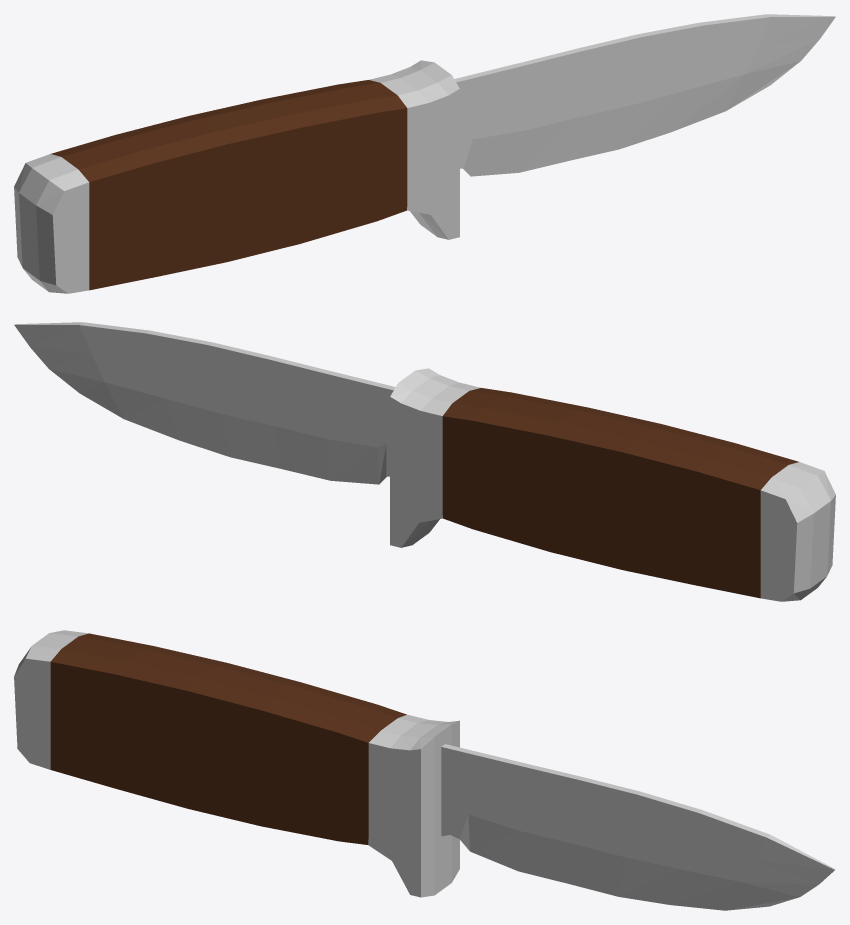
File: knife-by-poly-by-google-afo1s3P3jED.glb
3 views of the same model, one above another, from view 1: azimuth 30°, elevation 25°; view 2: azimuth 150°, elevation 25°; view 3: azimuth 330°, elevation 25° (orthographic).
Visible parts, largest first — view 1: Node; view 2: Node; view 3: Node.
Part boxes in pixels (box(x1,y1,x2,y2)): Node: box(14, 14, 835, 293); Node: box(14, 322, 835, 601); Node: box(14, 630, 835, 910).
Bounding box in the file's own units: 5.34 × 1.01 × 0.4434.
